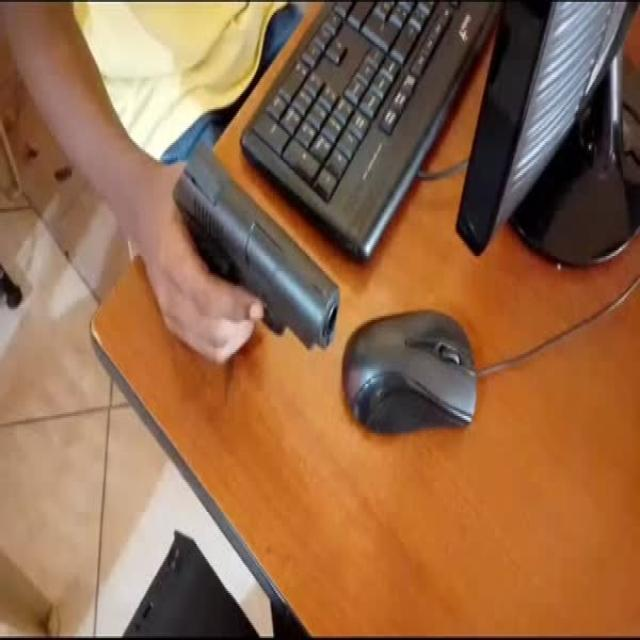weapon: (171, 140, 340, 351)
